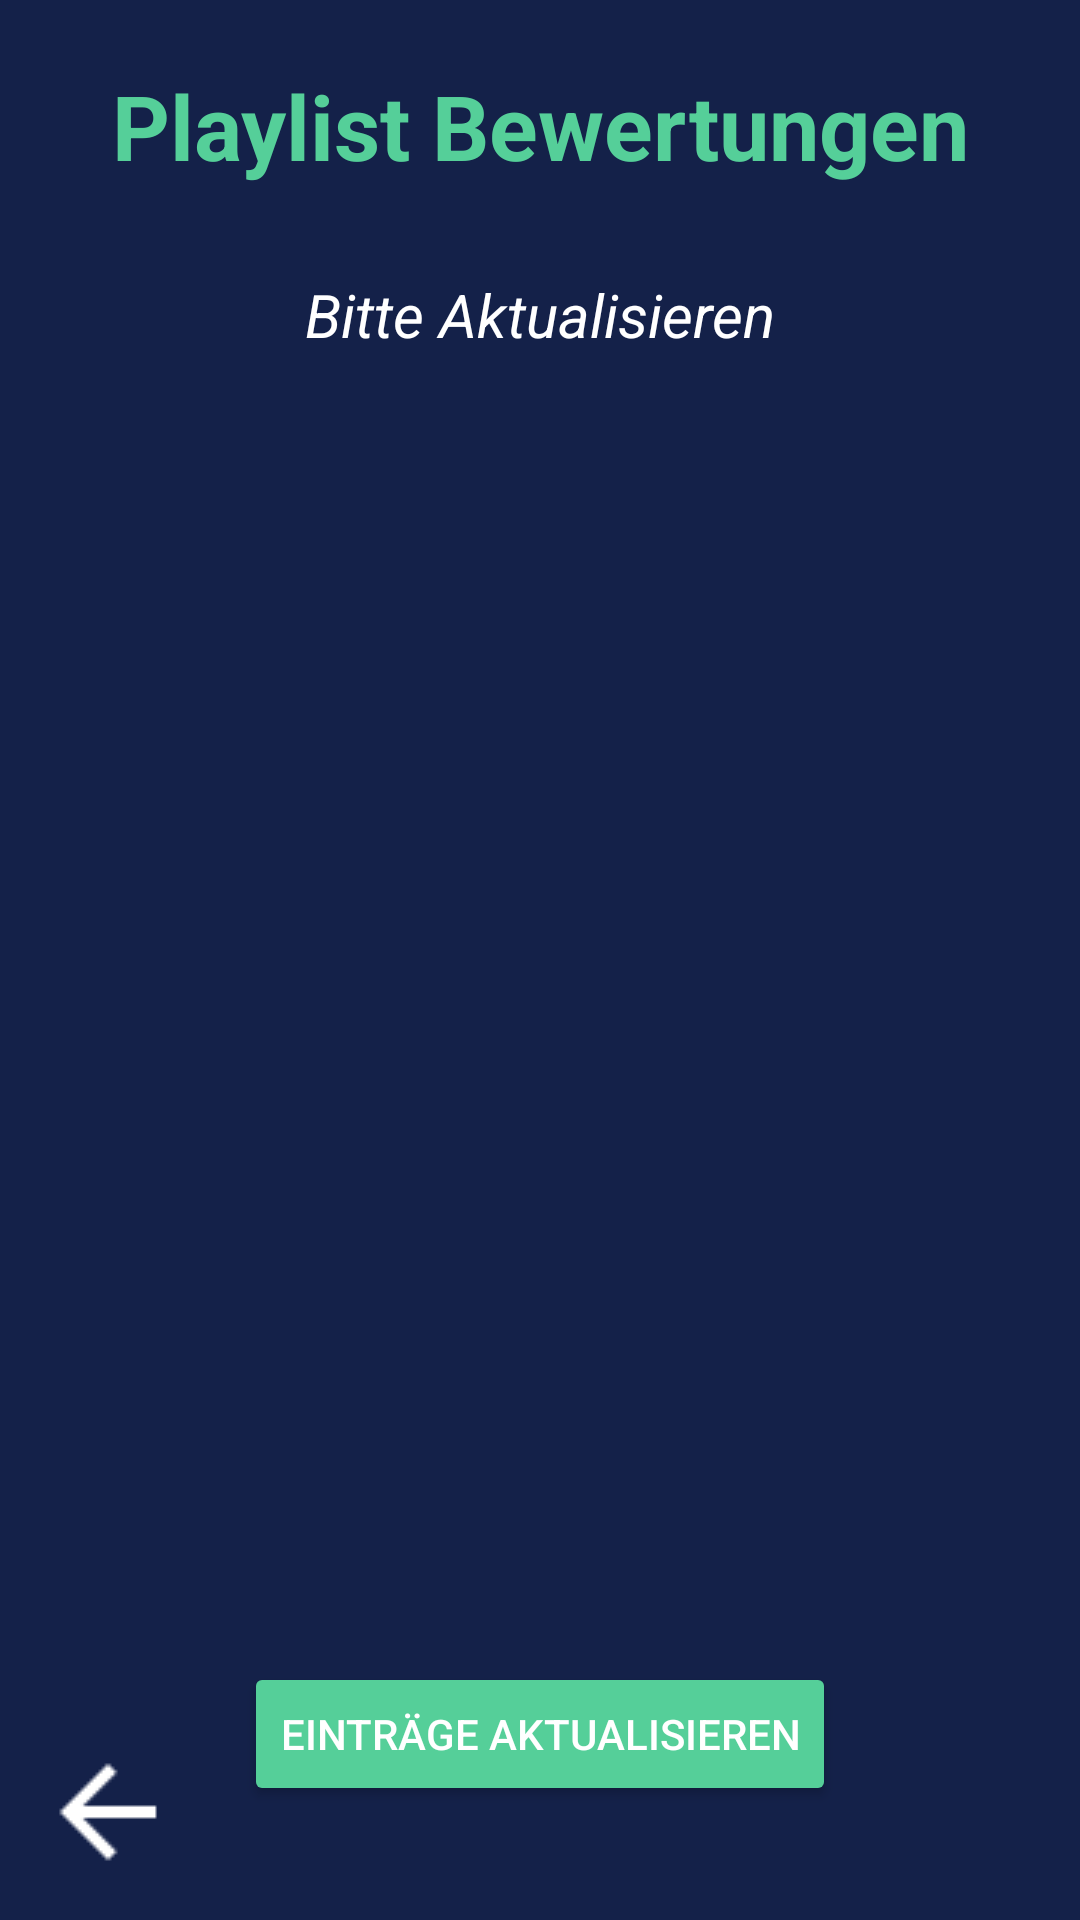

Where icons sit on this 1080px×1920px app screen, as bbox=(x1, y1, x2, y2):
Zurück: bbox=(59, 1763, 157, 1861)
